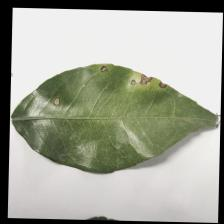greening: (44, 60, 169, 116)
